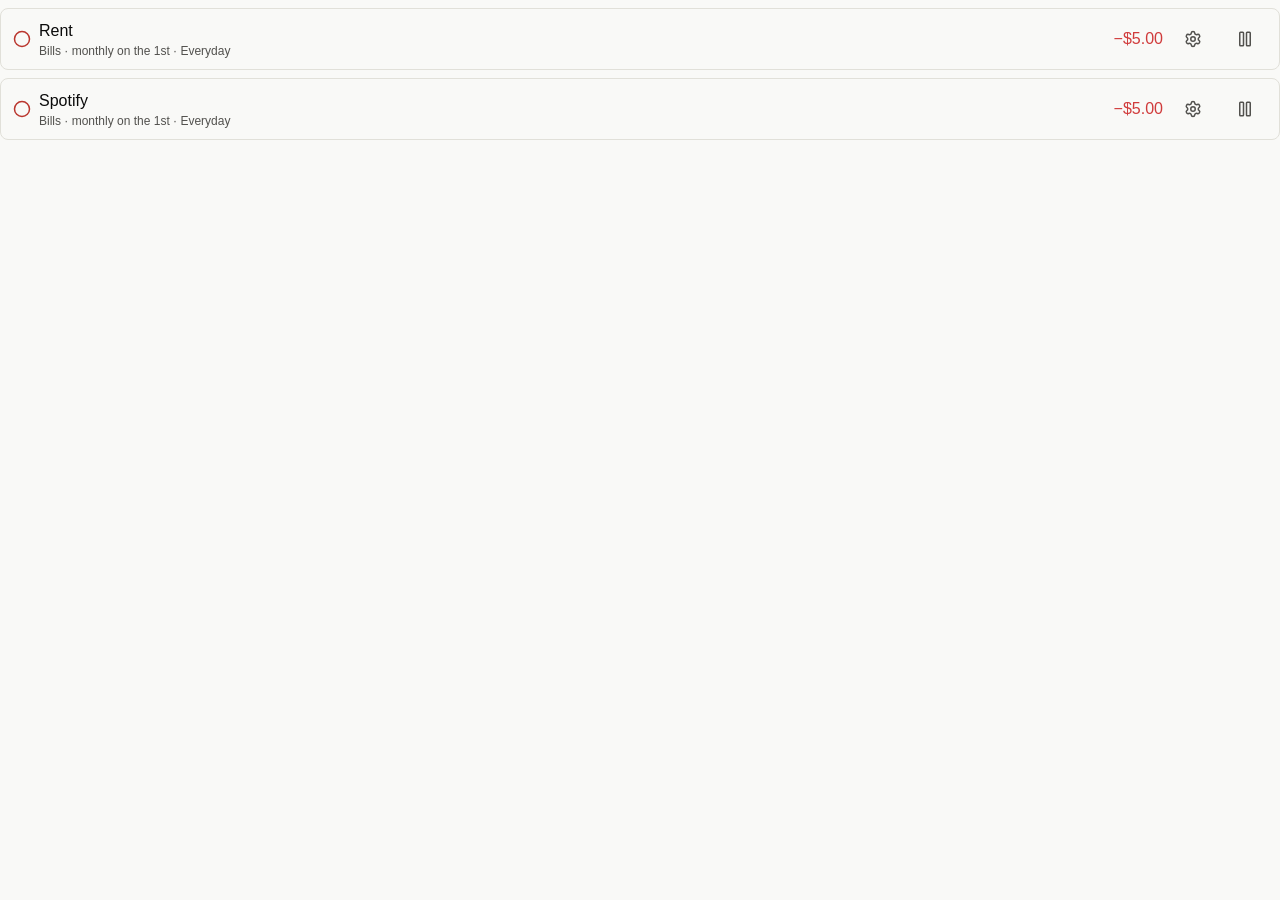
Test: RecurringList — edit dialog › opens the Edit dialog seeded for that rule
This screenshot has width=1280, height=900.
Click the button named "Edit Rent" at (1193, 39), box left=1171, top=17, right=1215, bottom=61
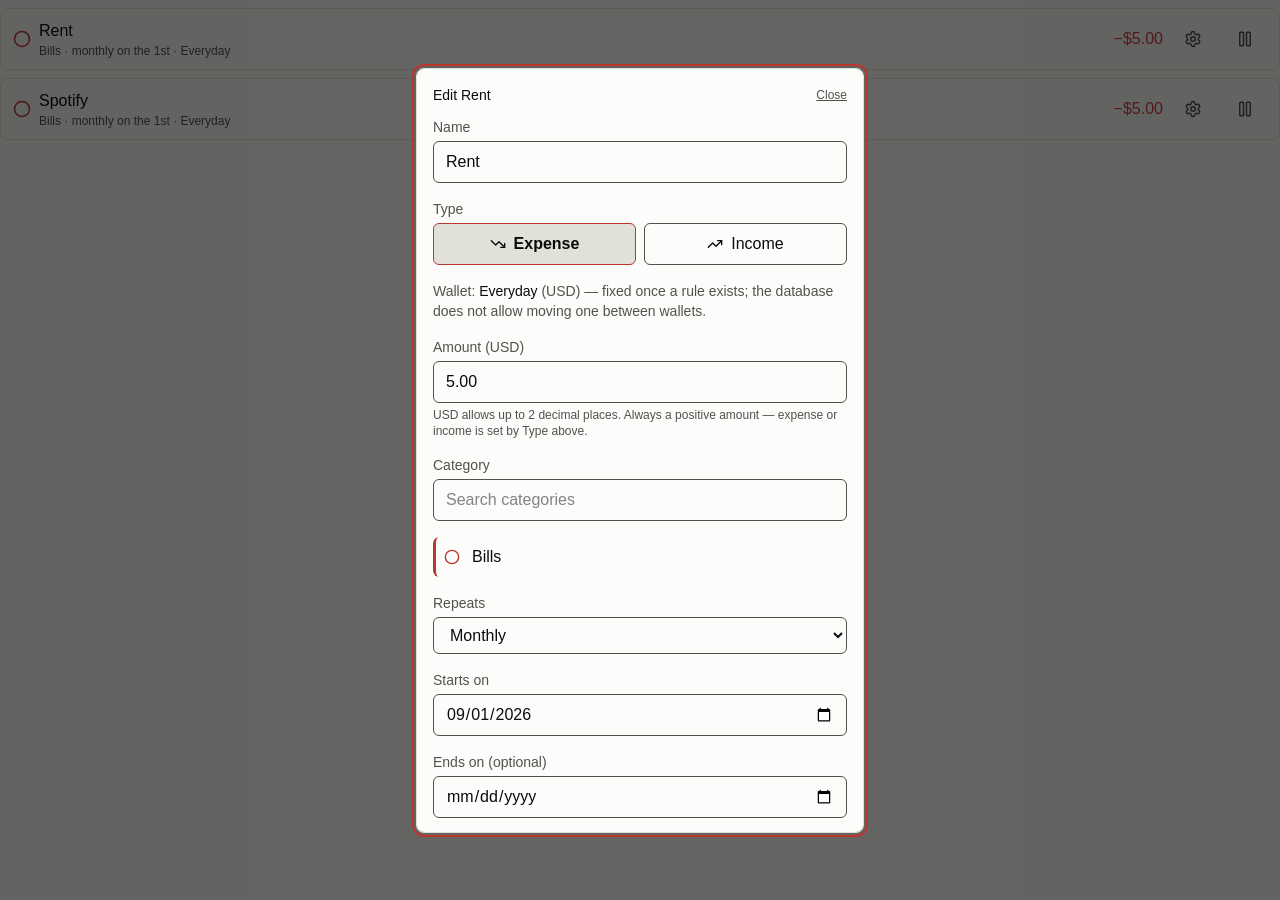
Result: the dialog "Edit Rent" is shown at left=416, top=68, right=864, bottom=832
Result: the field labelled "Name" holds "Rent" at left=433, top=140, right=847, bottom=182
Result: the field labelled "Amount" holds "5.00" at left=433, top=360, right=847, bottom=402
